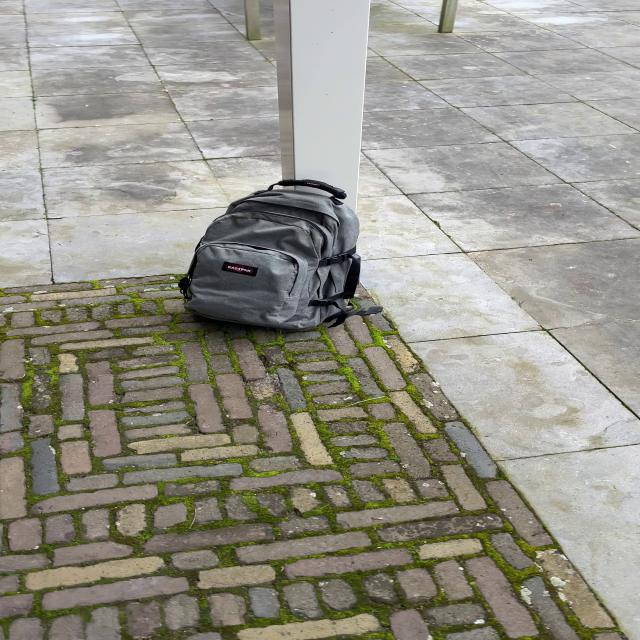backpack: (174, 175, 375, 337)
